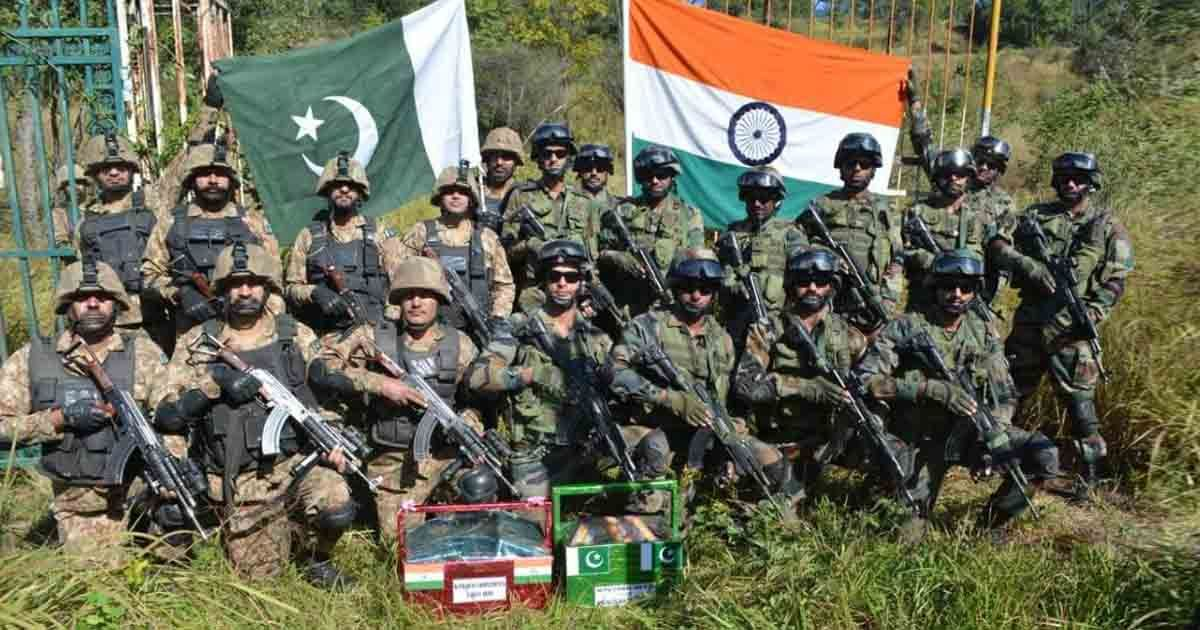gun: (608, 311, 792, 492), (201, 333, 378, 491), (358, 336, 519, 496), (772, 316, 913, 496), (917, 327, 1042, 522), (519, 295, 648, 481), (998, 196, 1124, 381), (88, 352, 202, 550)
uniform: (149, 236, 315, 553), (305, 263, 473, 549), (17, 258, 169, 542), (873, 234, 1020, 502), (603, 244, 753, 501), (739, 256, 874, 500), (478, 240, 609, 473), (1019, 160, 1131, 420), (148, 128, 271, 309), (779, 155, 919, 296), (59, 126, 168, 302), (402, 162, 505, 338), (693, 166, 800, 325), (294, 152, 379, 311), (600, 145, 700, 274), (893, 151, 983, 262), (503, 120, 581, 239)
